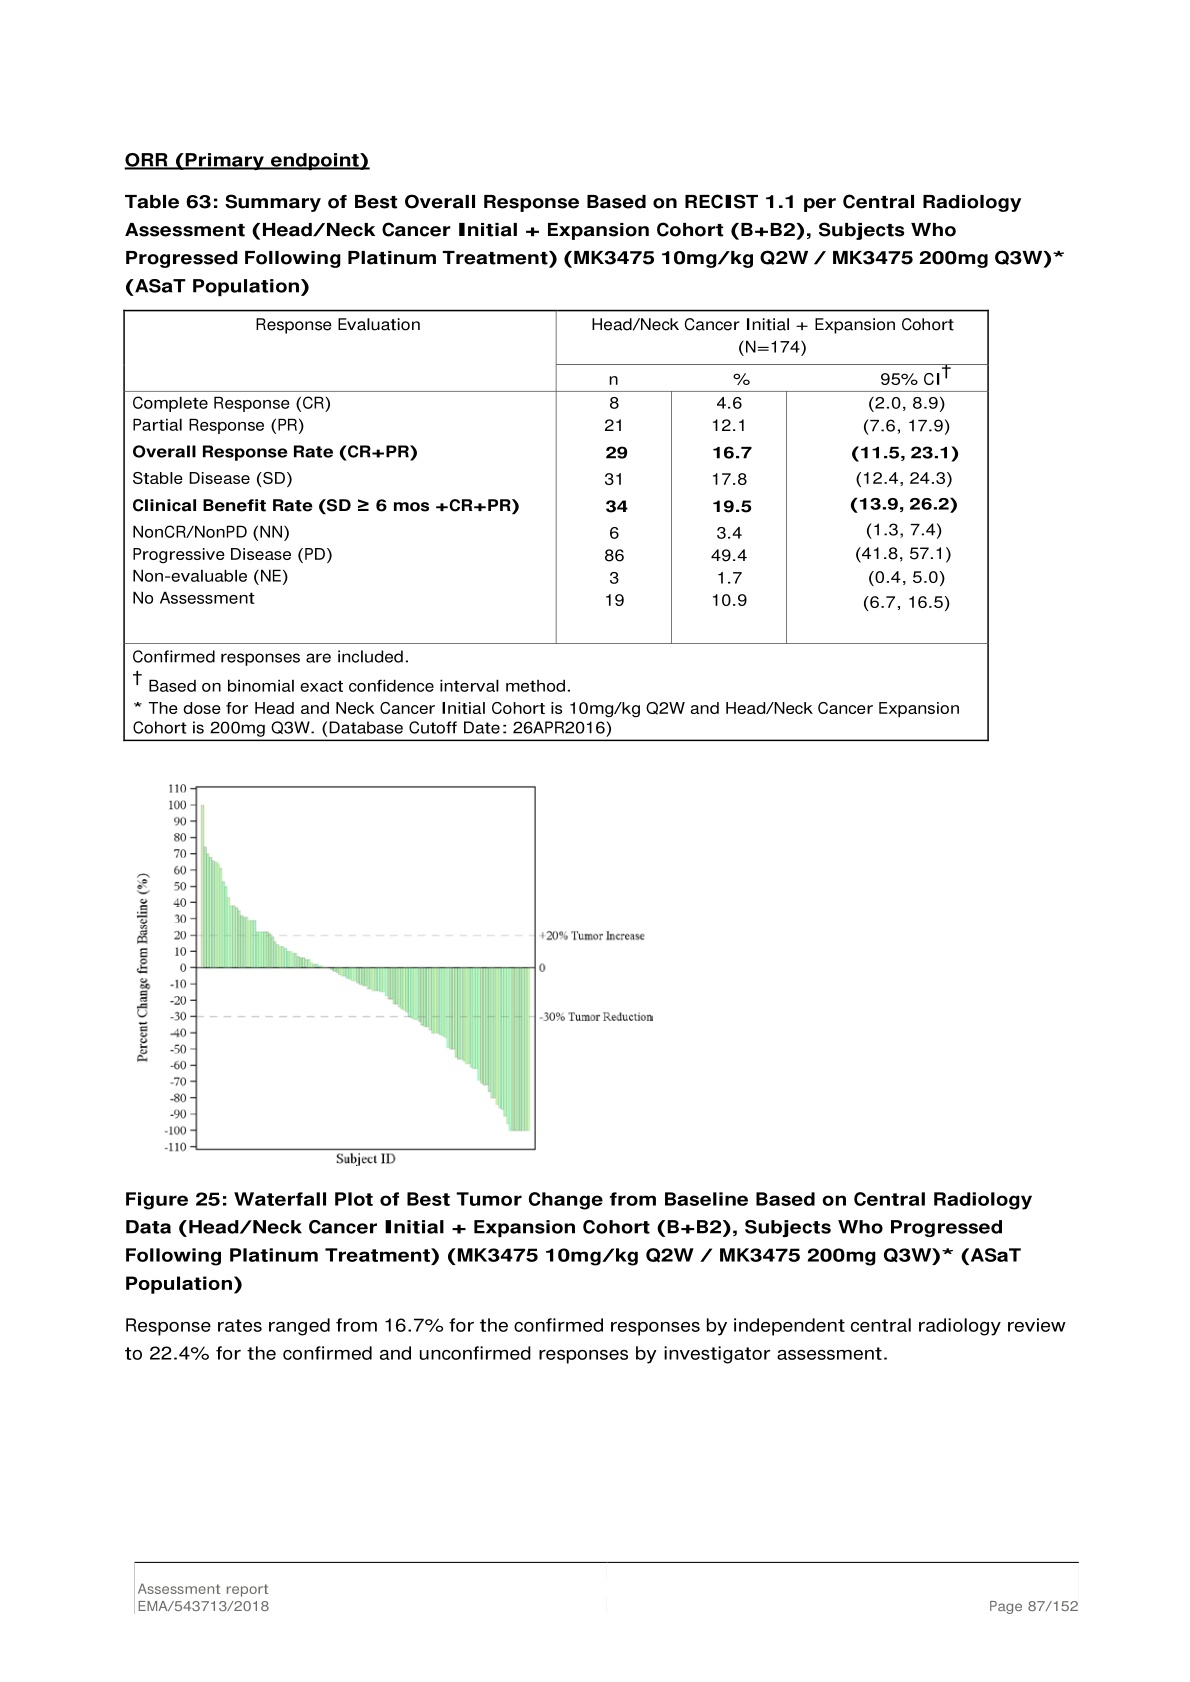partial_lined_merged_cells: (122, 309, 989, 742)
